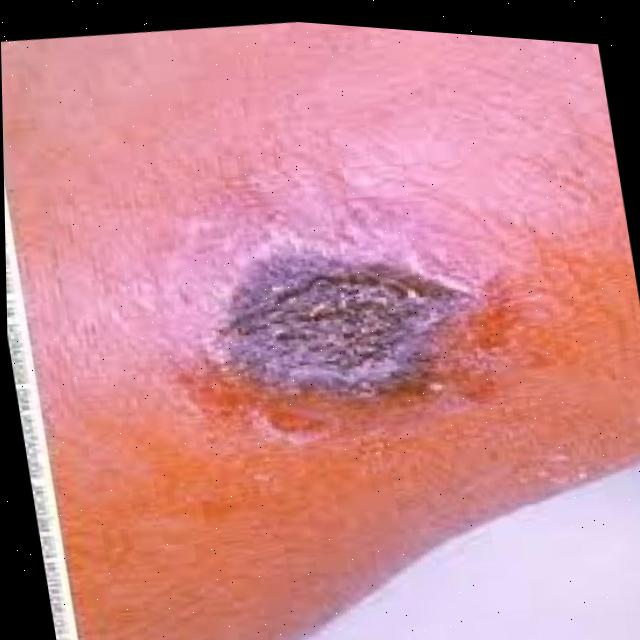Eczema: (199, 220, 447, 430)
